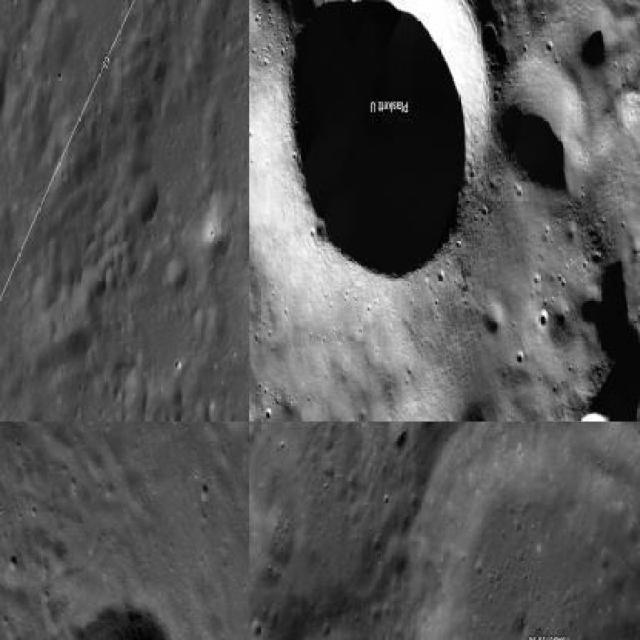crater: (283, 0, 491, 280), (411, 422, 638, 638), (492, 57, 585, 198)
